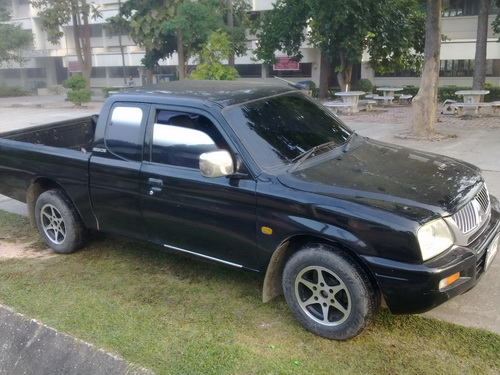pickup: (2, 79, 500, 341)
